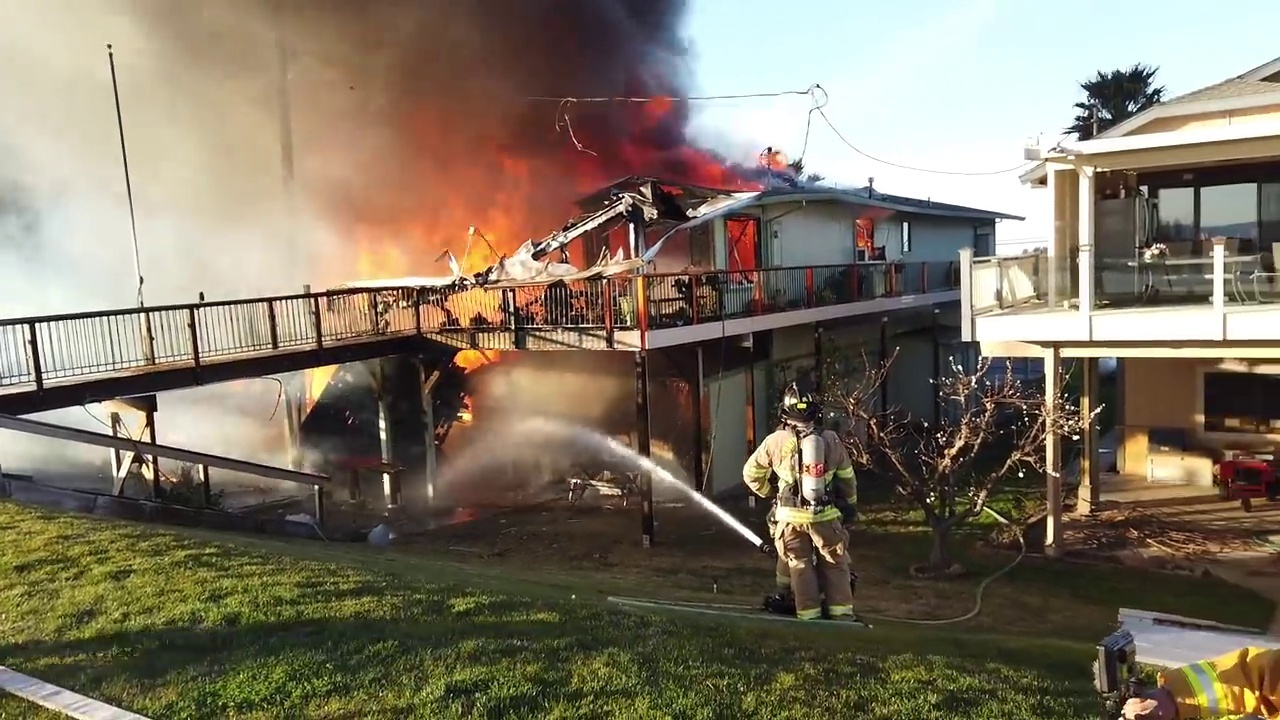fire: (341, 184, 541, 284), (751, 145, 794, 175), (729, 220, 754, 269), (451, 344, 497, 369), (857, 221, 870, 247)
smoke: (3, 1, 702, 181), (1, 189, 330, 289), (506, 351, 694, 467), (158, 390, 293, 470), (4, 432, 115, 492)
